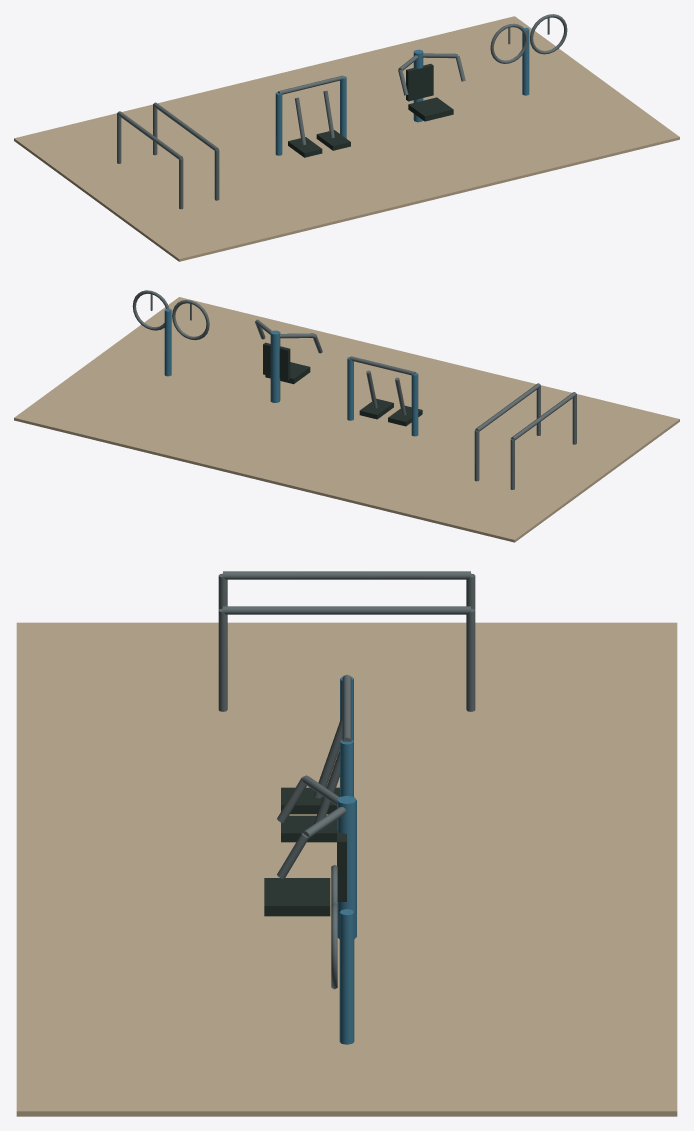
The picture shows the model from 3 angles, top to bottom: view 1: azimuth 30°, elevation 25°; view 2: azimuth 150°, elevation 25°; view 3: azimuth 270°, elevation 25°; orthographic projection. The views are drawn at different scales.
Visible parts, largest first — view 1: 야외 운동기구; view 2: 야외 운동기구; view 3: 야외 운동기구.
Part boxes in pixels (bbox=[...]): 야외 운동기구: bbox=[14, 14, 679, 261]; 야외 운동기구: bbox=[14, 290, 679, 542]; 야외 운동기구: bbox=[16, 571, 677, 1116].
Bounding box in the file's own units: 14 × 2.12 × 8.
